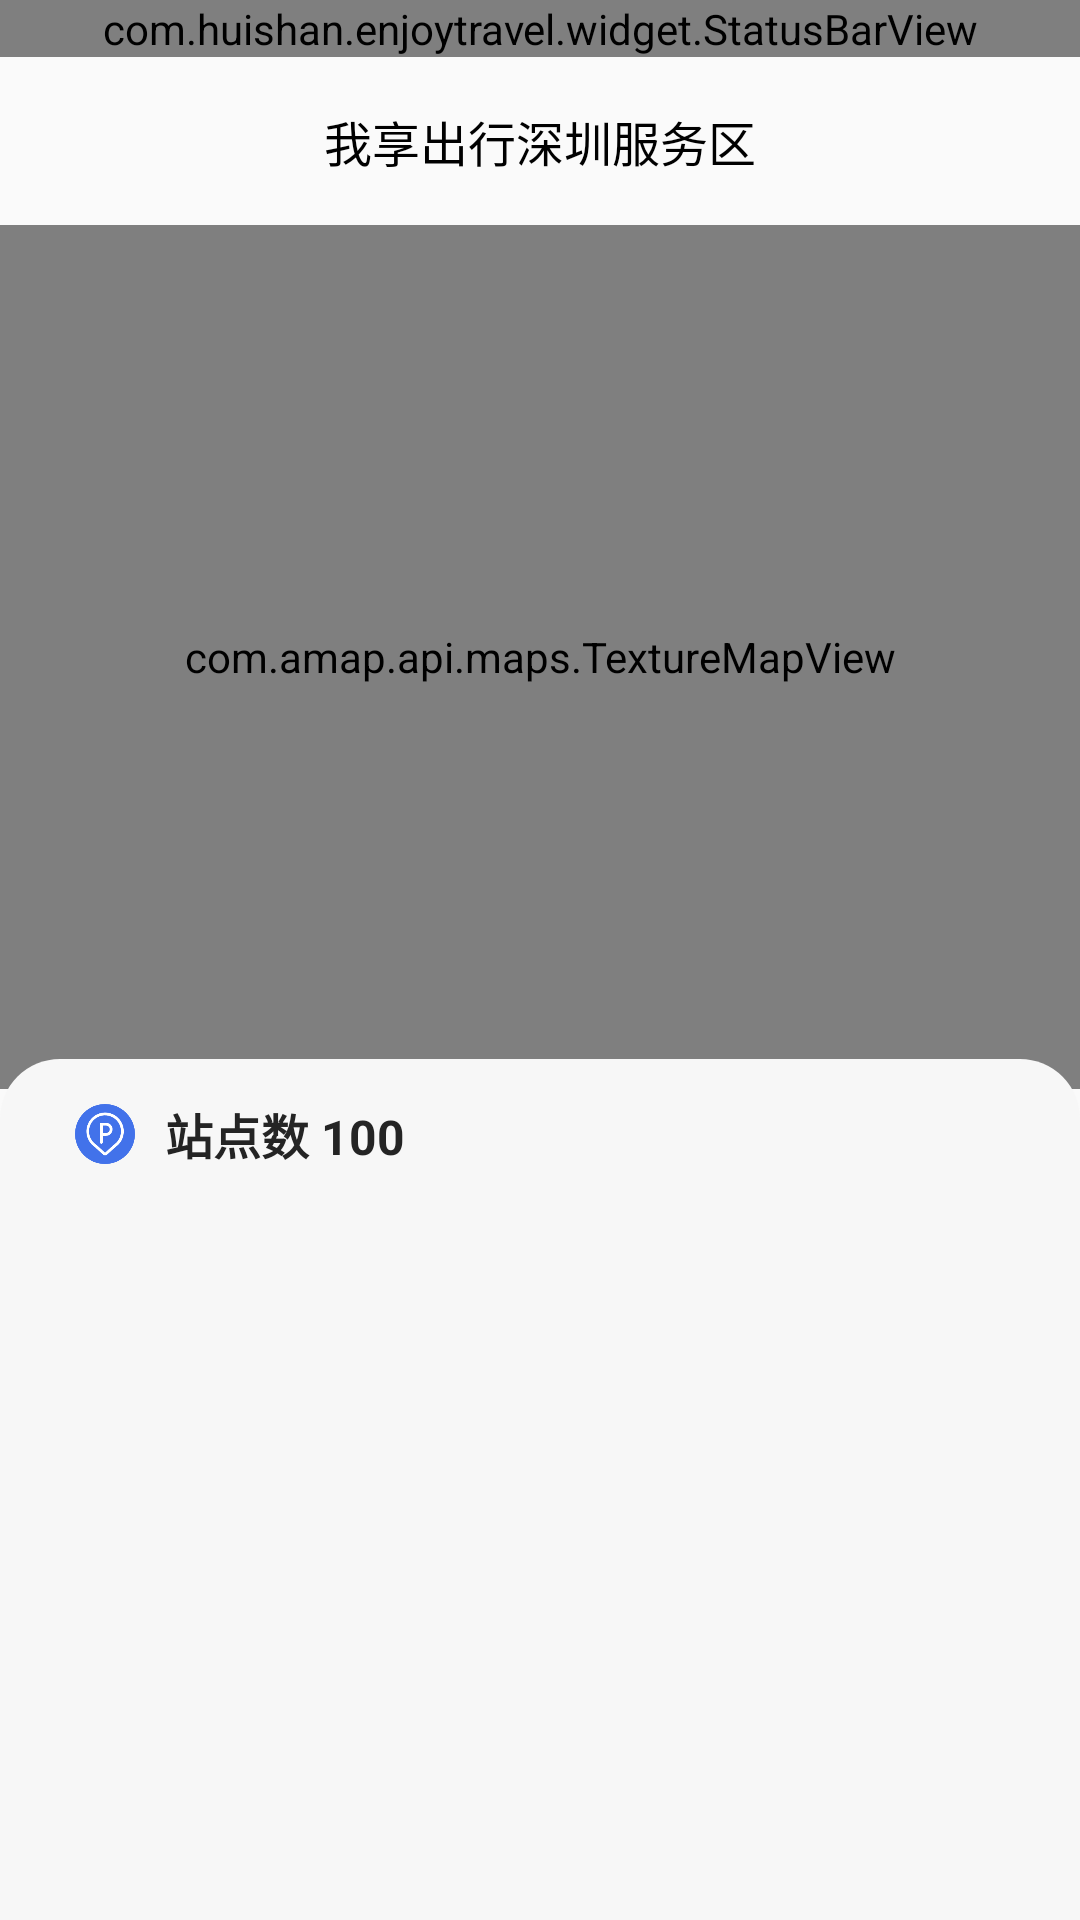

Icons on this 1080*1920 Android screen, each with the point to tap as point (x, y):
parking: point (105, 1134)
